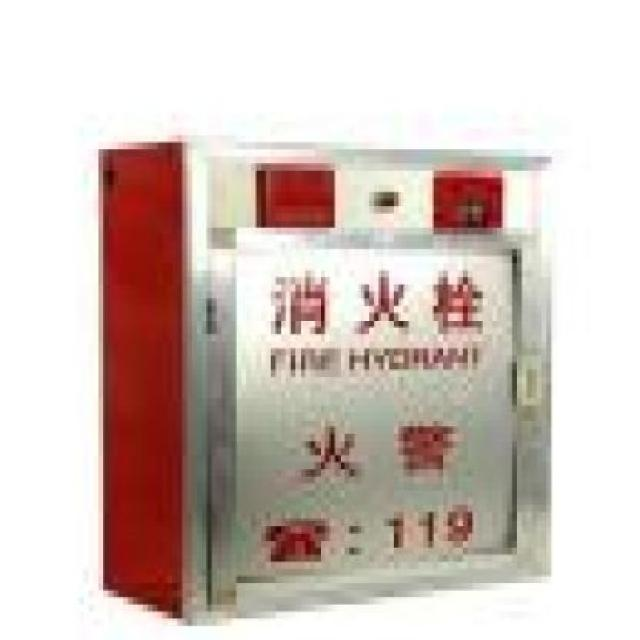firehydrant: (92, 134, 558, 631)
